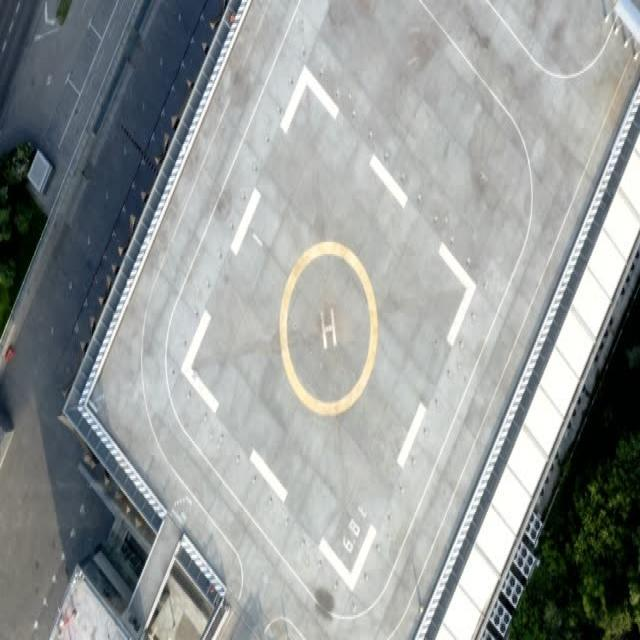helipad: (274, 233, 380, 419)
